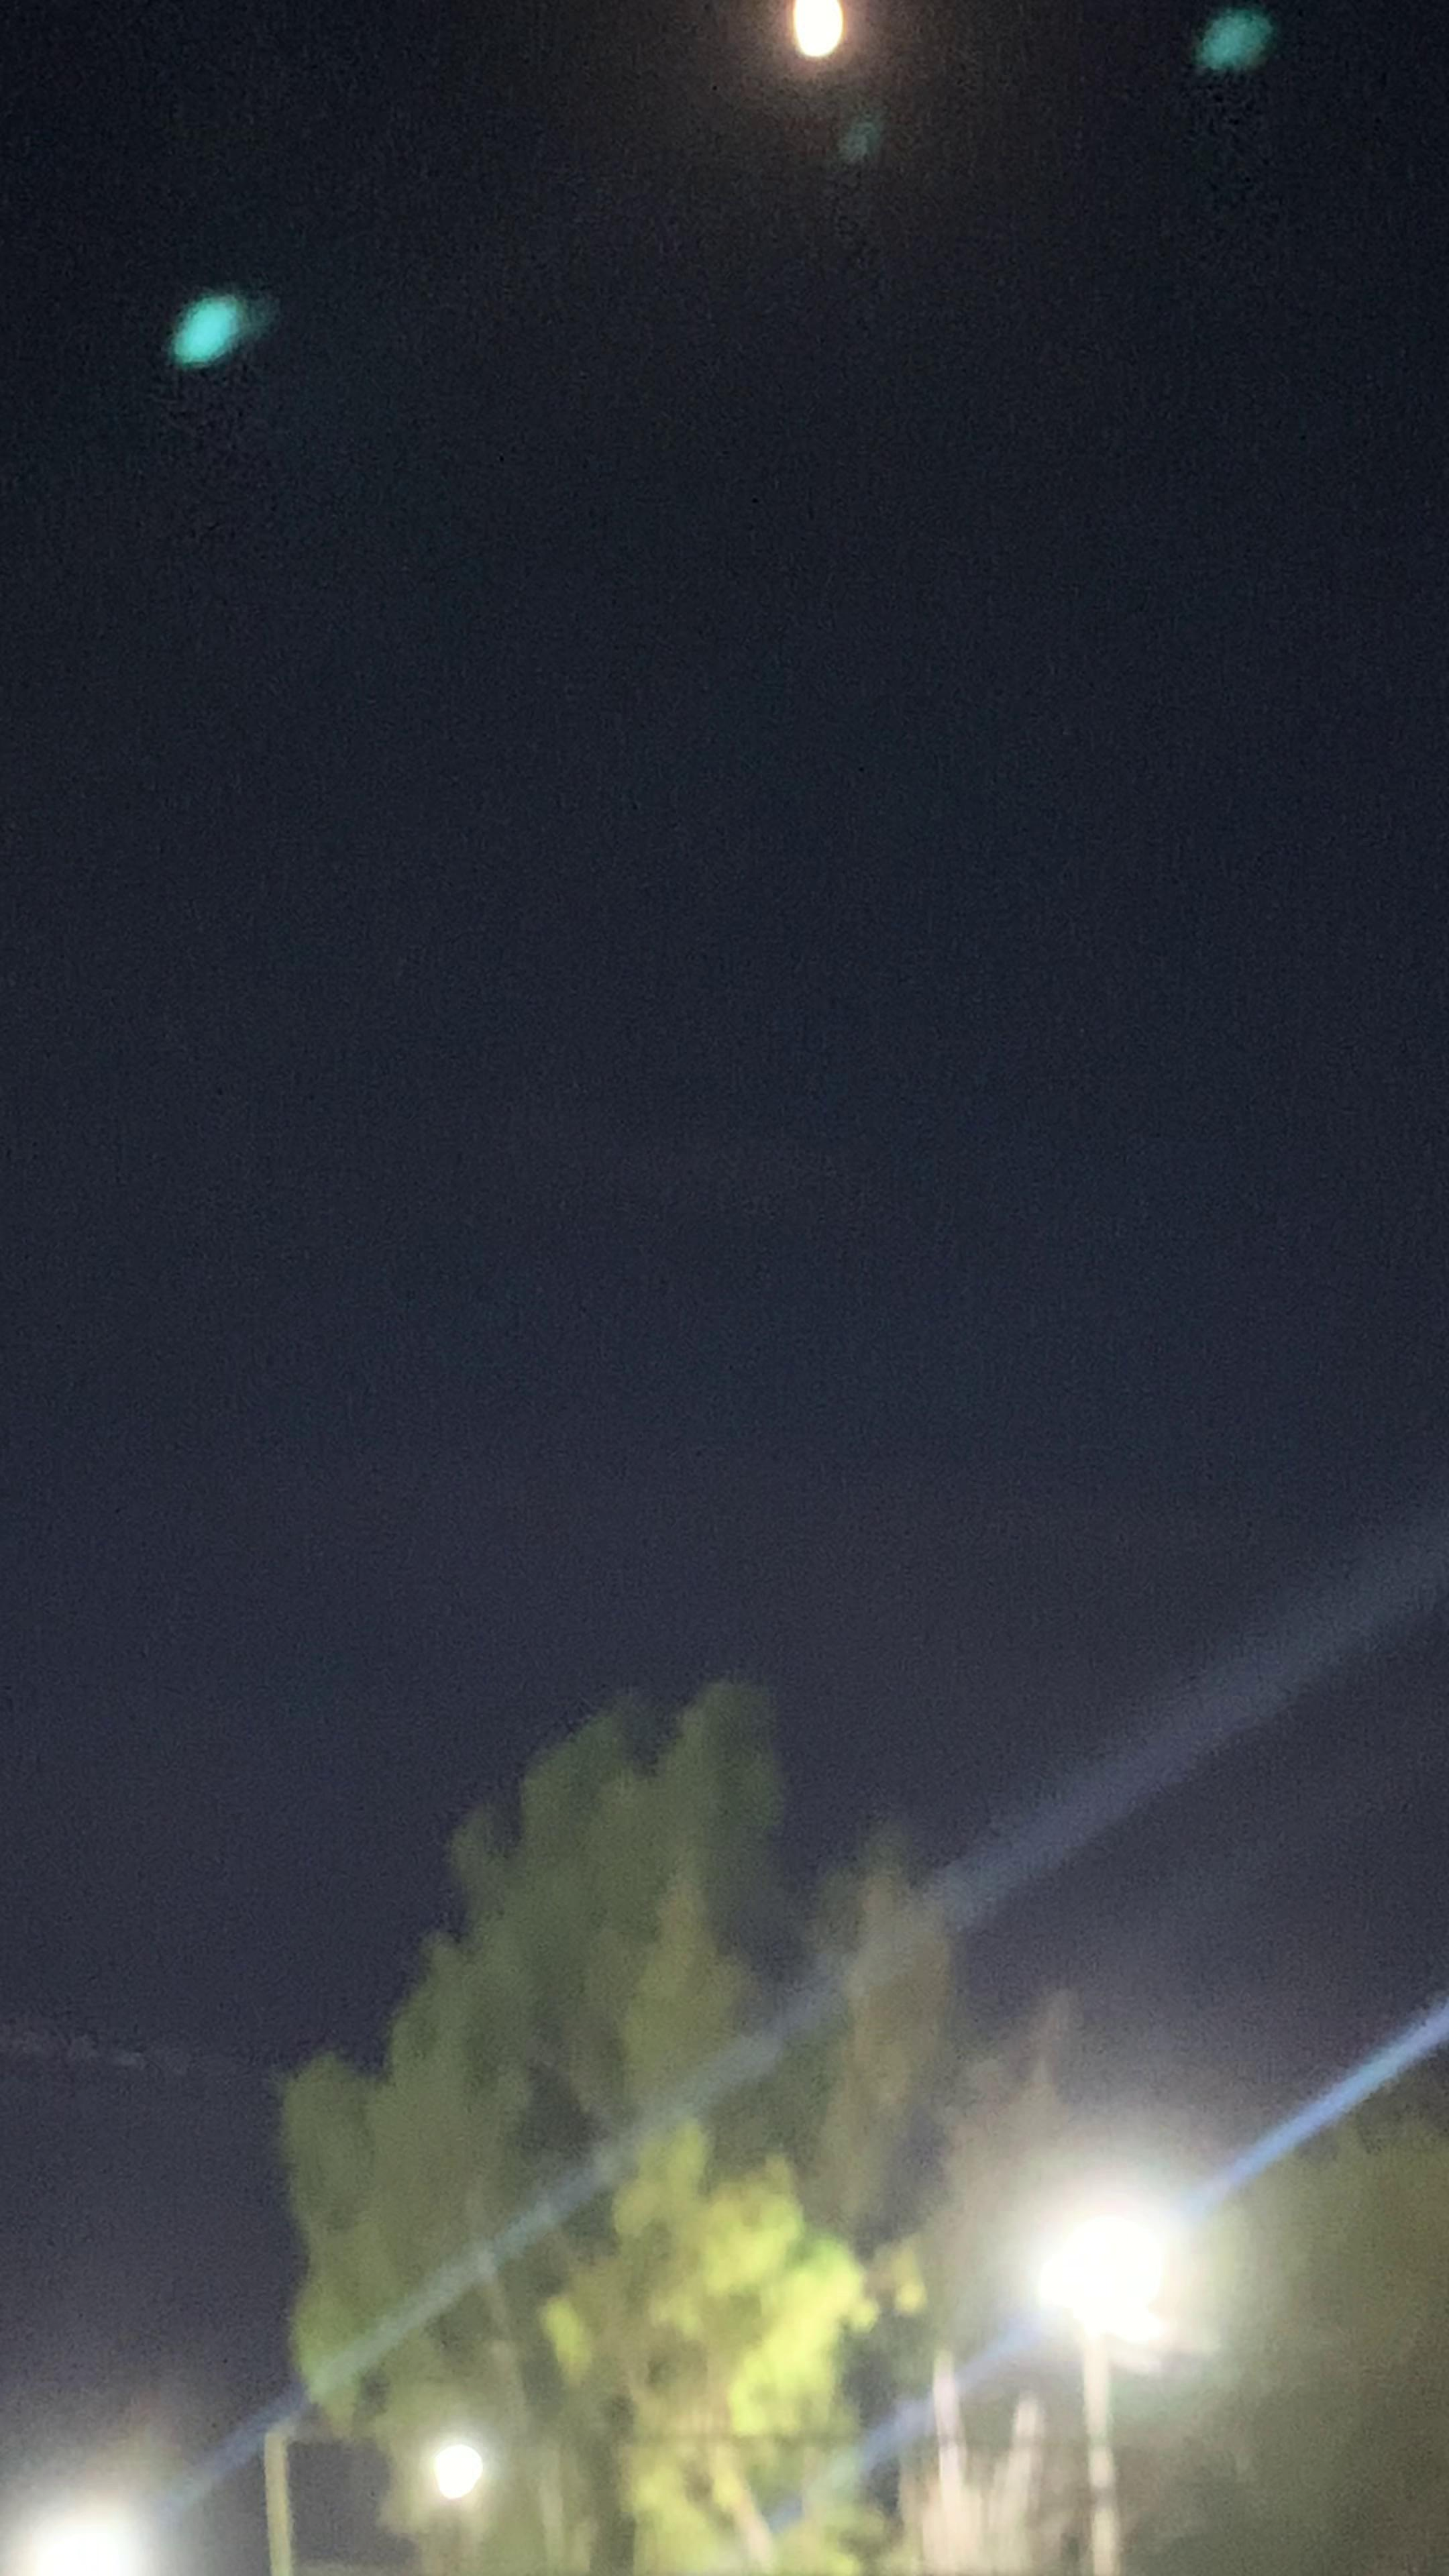moon: (752, 5, 897, 140)
